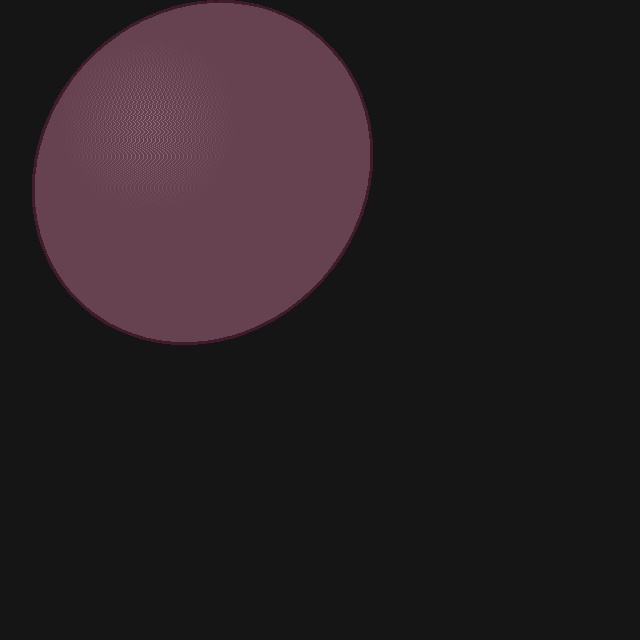lens: (33, 2, 371, 342)
